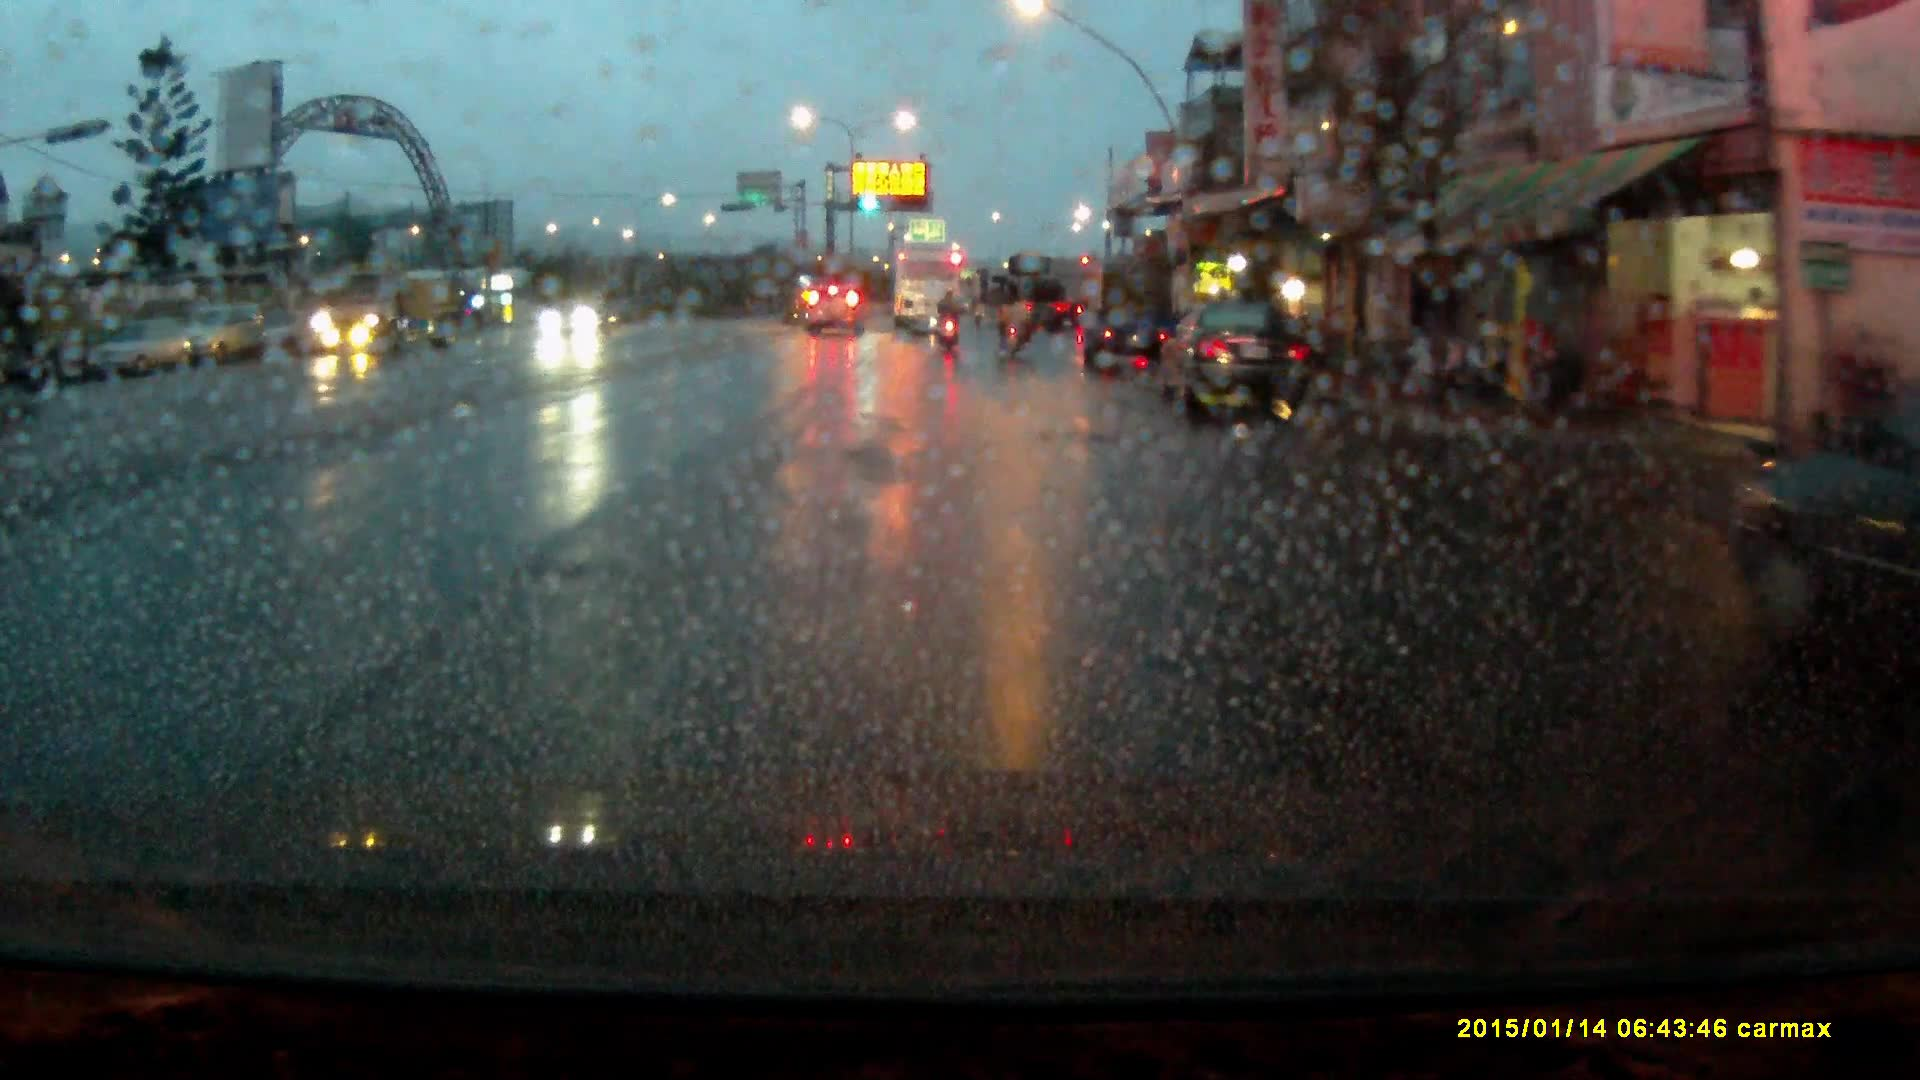rider: (993, 276, 1029, 359), (936, 285, 964, 350)
vehicle: (1158, 303, 1316, 426), (305, 262, 466, 351), (1078, 259, 1178, 366), (893, 247, 961, 335), (95, 320, 188, 381), (1006, 254, 1073, 338), (173, 303, 262, 363), (805, 278, 868, 337), (544, 297, 607, 337)
